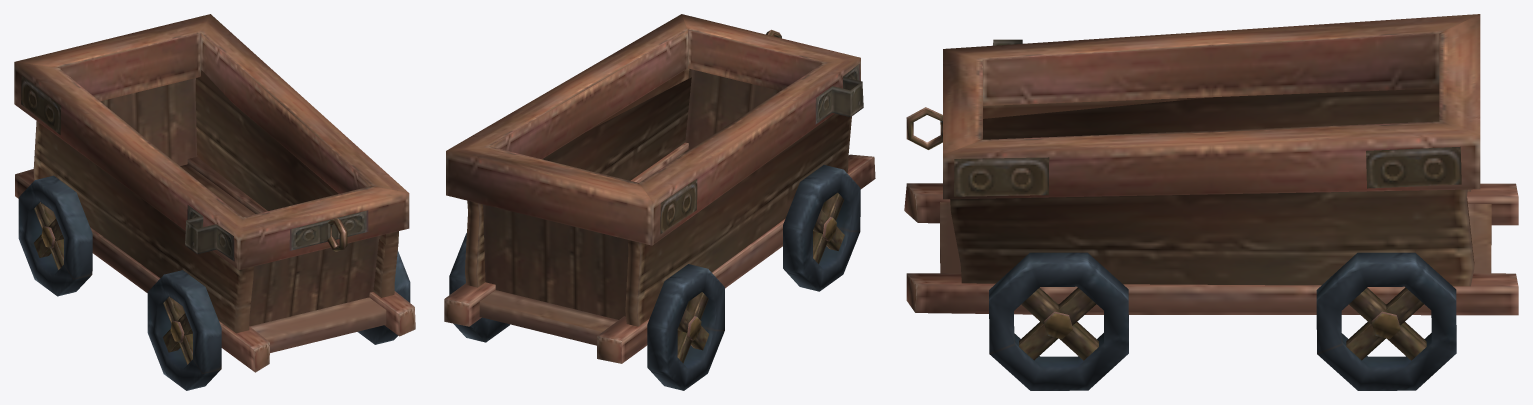
Rendered from FB6_mubanche01_001.FBX.
3 renders of one model, left to right at view 1: azimuth 30°, elevation 25°; view 2: azimuth 150°, elevation 25°; view 3: azimuth 270°, elevation 25°, orthographic. The views are drawn at different scales.
Parts seen in each view (by area): view 1: FB_kuangche_56; view 2: FB_kuangche_56; view 3: FB_kuangche_56.
Part boxes in pixels (x1,y1,x2,y2): FB_kuangche_56: [14, 14, 415, 390]; FB_kuangche_56: [444, 14, 875, 390]; FB_kuangche_56: [904, 14, 1518, 390].
Size of the model in its own units: 234 by 209 by 463.
Materials: 1 (1 with a texture image).
